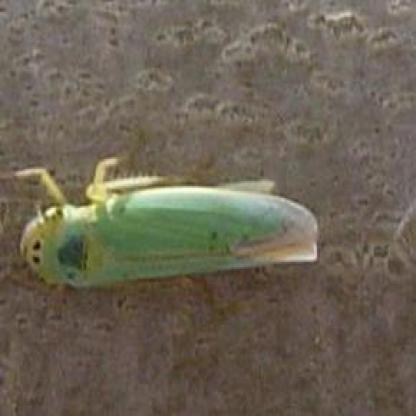Green-Leafhopper: (9, 156, 327, 296)
